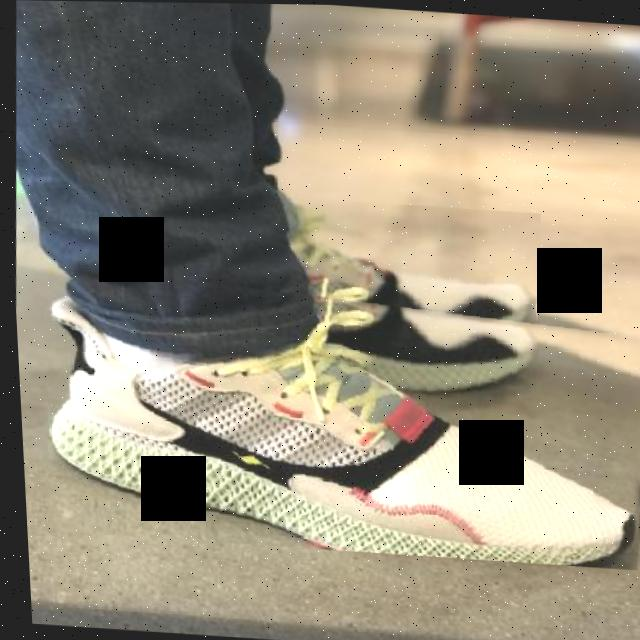shoe: (31, 262, 640, 569), (269, 195, 546, 376)
